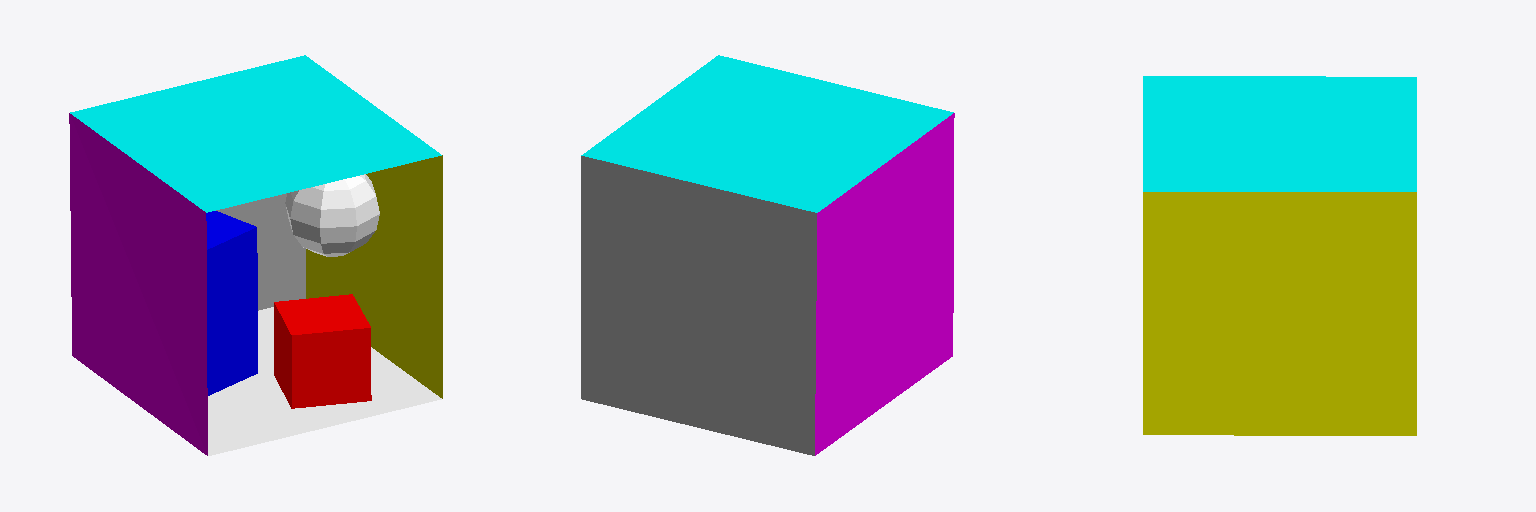
Rendered from textured-cornell-box.obj.
3 renders of one model, left to right at view 1: azimuth 30°, elevation 25°; view 2: azimuth 150°, elevation 25°; view 3: azimuth 270°, elevation 25°, orthographic.
Parts seen in each view (by area): view 1: left_wall, ceiling, right_wall, floor, short_box, tall_box, sphere, back_wall; view 2: back_wall, left_wall, ceiling; view 3: right_wall, ceiling.
Boxes of the visible parts, x1,y1,x2,y2 form: left_wall: [69, 113, 207, 455]; ceiling: [70, 55, 441, 212]; right_wall: [306, 155, 442, 398]; floor: [208, 307, 441, 455]; short_box: [274, 294, 371, 408]; tall_box: [206, 211, 257, 395]; sphere: [285, 174, 379, 256]; back_wall: [216, 193, 305, 310]; back_wall: [581, 156, 816, 455]; left_wall: [815, 113, 954, 455]; ceiling: [581, 55, 953, 212]; right_wall: [1143, 192, 1416, 435]; ceiling: [1143, 76, 1416, 191].
Bounding box in the file's own units: 5.56 × 5.49 × 5.6.